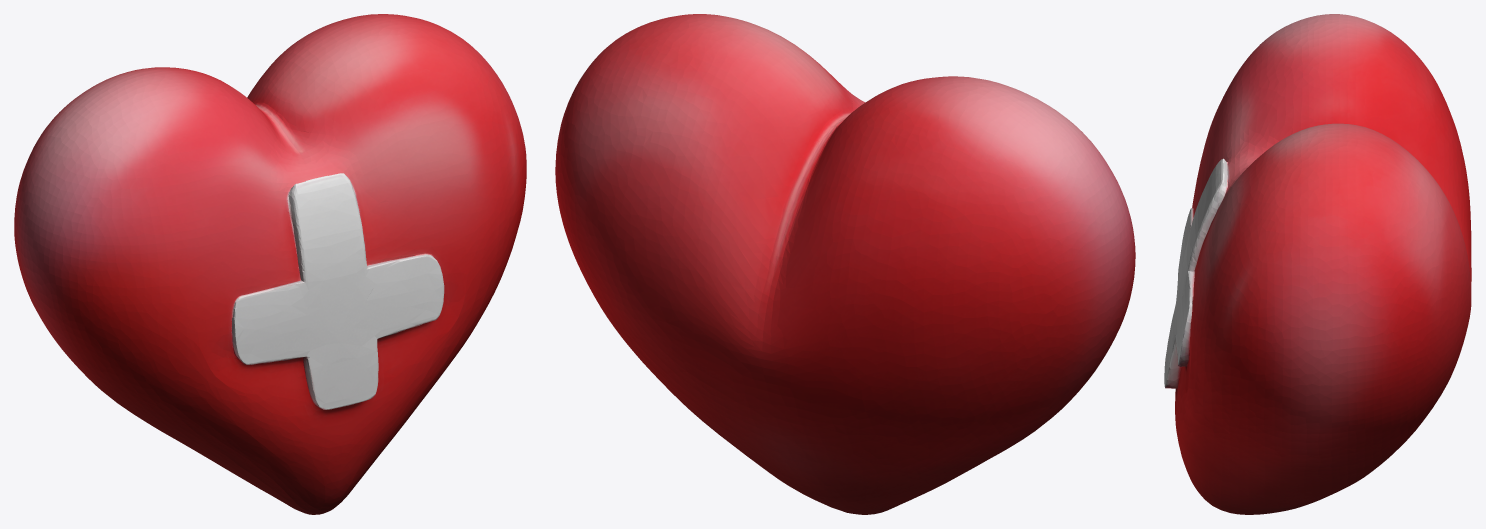
3 renders of one model, left to right at view 1: azimuth 30°, elevation 25°; view 2: azimuth 150°, elevation 25°; view 3: azimuth 270°, elevation 25°, orthographic. The views are drawn at different scales.
Parts seen in each view (by area): view 1: world; view 2: world; view 3: world.
Boxes of the visible parts, x1=… form: world: x1=14, y1=14, x2=526, y2=514; world: x1=555, y1=14, x2=1135, y2=514; world: x1=1164, y1=14, x2=1471, y2=514.
Bounding box in the file's own units: 0.9995 × 0.8503 × 0.5519.
1 material, 1 textured.
